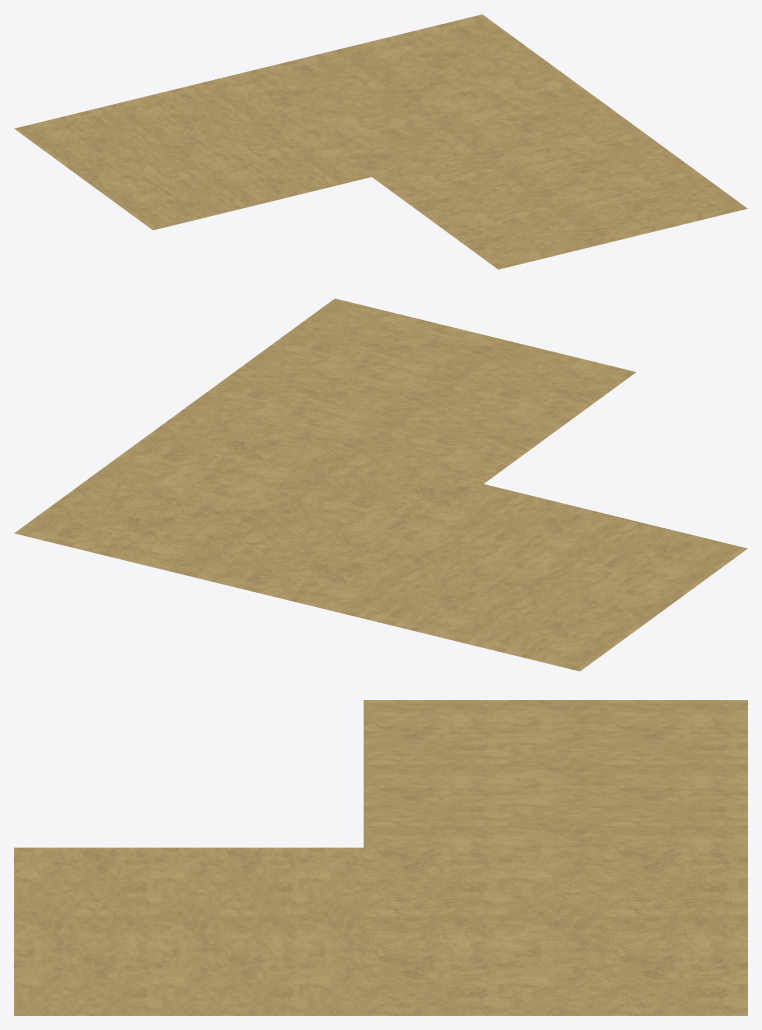
Rendered from side_terain_01.fbx.
3 views of the same model, one above another, from view 1: azimuth 30°, elevation 25°; view 2: azimuth 150°, elevation 25°; view 3: azimuth 270°, elevation 25° (orthographic). The views are drawn at different scales.
Visible parts, largest first — view 1: outer_floor_01; view 2: outer_floor_01; view 3: outer_floor_01.
Part boxes in pixels (<box>): outer_floor_01: <box>14,14,747,269</box>; outer_floor_01: <box>14,298,747,671</box>; outer_floor_01: <box>14,700,747,1015</box>.
Bounding box in the file's own units: 963 × 0 × 946.
